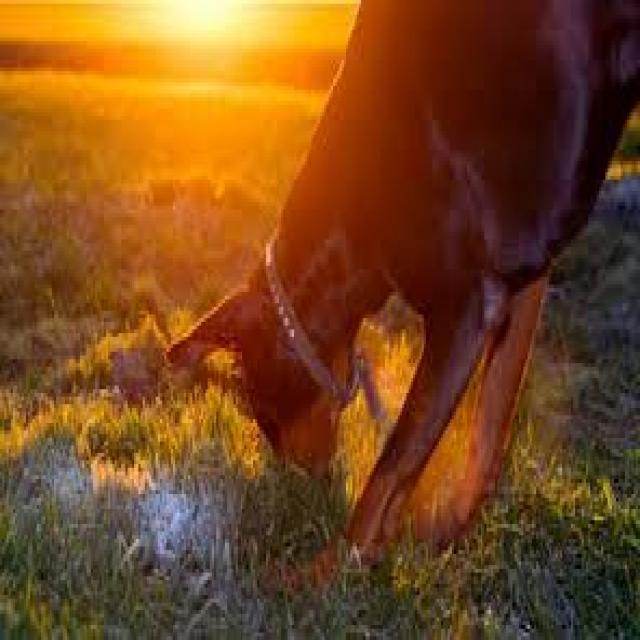Dog: (162, 0, 640, 585)
